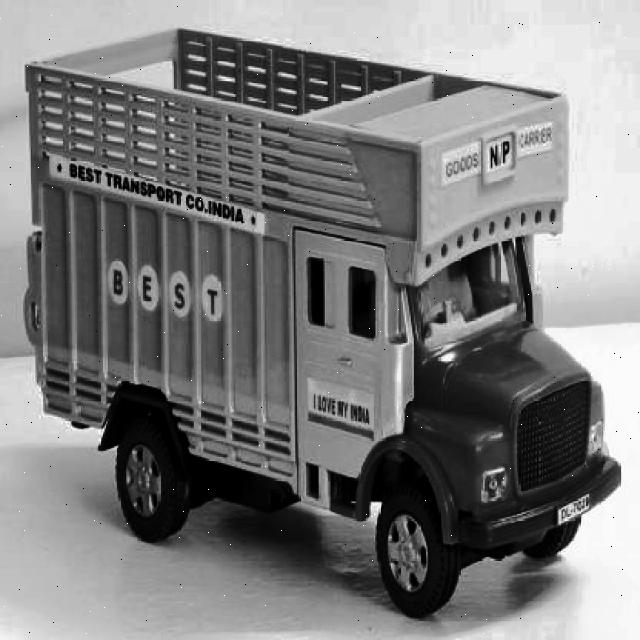HCV: (37, 29, 620, 586)
